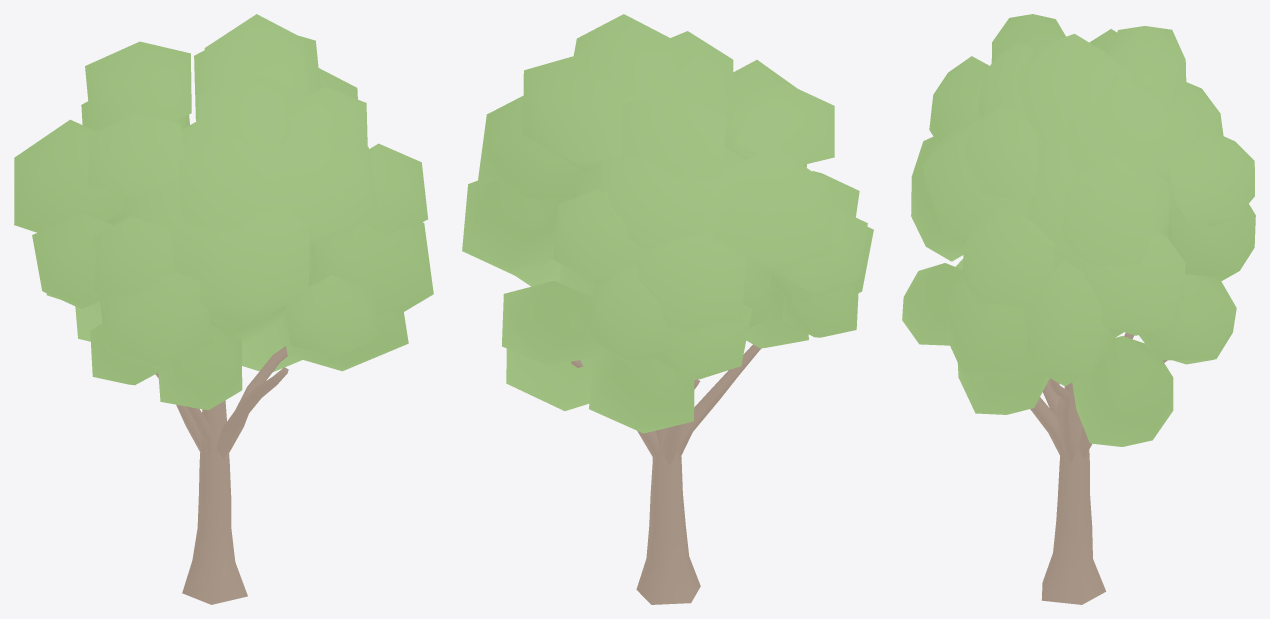
Rendered from Blender_Maple_3_Far.glb.
3 renders of one model, left to right at view 1: azimuth 30°, elevation 25°; view 2: azimuth 150°, elevation 25°; view 3: azimuth 270°, elevation 25°, orthographic. The views are drawn at different scales.
Visible parts, largest first — view 1: Blender_Maple_3_Far; view 2: Blender_Maple_3_Far; view 3: Blender_Maple_3_Far.
Part boxes in pixels (bbox=[...]): Blender_Maple_3_Far: bbox=[14, 14, 433, 604]; Blender_Maple_3_Far: bbox=[462, 14, 873, 604]; Blender_Maple_3_Far: bbox=[902, 14, 1255, 604].
Bounding box in the file's own units: 15.36 × 22.84 × 12.64.
